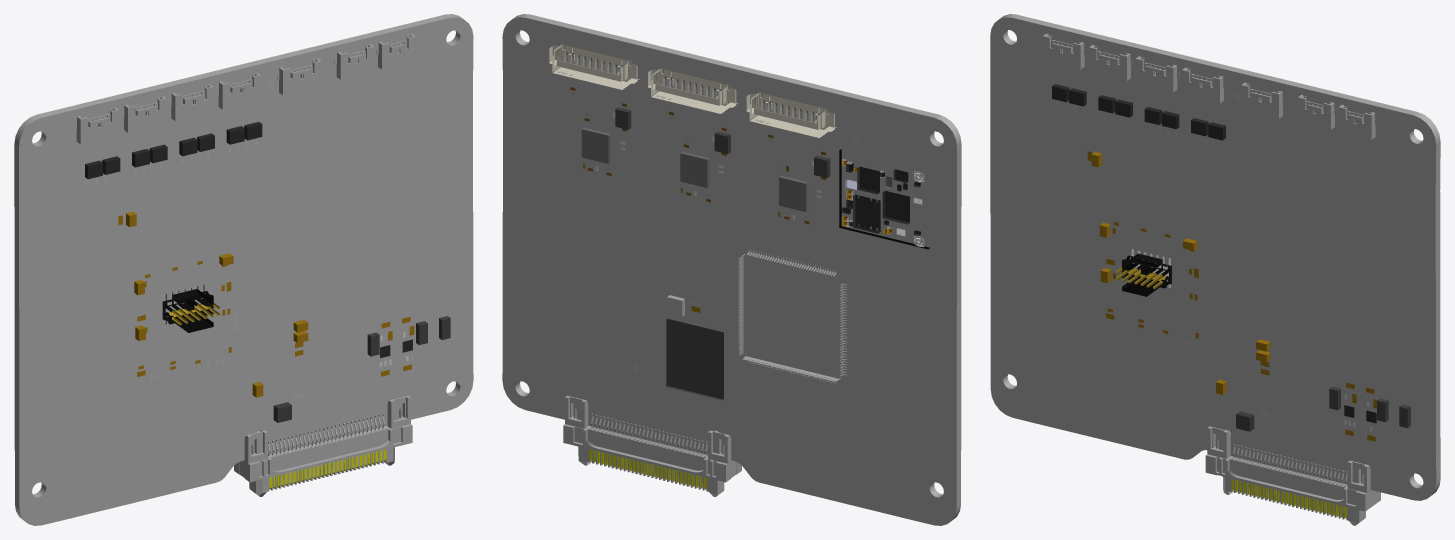
Rendered from piklas.glb.
The picture shows the model from 3 angles, left to right: view 1: azimuth 30°, elevation 25°; view 2: azimuth 150°, elevation 25°; view 3: azimuth 330°, elevation 25°; orthographic projection.
Visible parts, largest first — view 1: board, if_0, blocks, if_1, decals, if_7, if_9, if_6, if_8, if_5, if_10, if_11; view 2: board, parts, if_0, blocks, if_2, if_3, if_4, decals; view 3: board, if_0, blocks, if_1, decals, if_5, if_7, if_6, if_9, if_8, if_11, if_10.
Boxes of the visible parts, x1,y1,x2,y2 form: board: (14, 14, 473, 525); if_0: (234, 395, 412, 496); blocks: (85, 122, 450, 422); if_1: (162, 284, 219, 332); decals: (86, 66, 414, 399); if_7: (169, 84, 213, 121); if_9: (277, 58, 321, 95); if_6: (122, 96, 166, 132); if_8: (216, 72, 260, 109); if_5: (74, 107, 118, 144); if_10: (334, 44, 374, 79); if_11: (376, 34, 415, 69); board: (502, 14, 961, 525); parts: (666, 149, 929, 400); if_0: (563, 395, 741, 496); blocks: (581, 107, 830, 316); if_2: (648, 68, 739, 113); if_3: (746, 92, 837, 137); if_4: (549, 44, 639, 89); decals: (569, 81, 858, 372); board: (990, 14, 1440, 500); if_0: (1205, 426, 1380, 525); blocks: (1052, 84, 1410, 431); if_1: (1116, 249, 1171, 296); decals: (1056, 77, 1377, 441); if_5: (1042, 33, 1086, 69); if_7: (1135, 56, 1179, 92); if_6: (1089, 45, 1132, 80); if_9: (1241, 82, 1284, 118); if_8: (1182, 67, 1225, 103); if_11: (1338, 104, 1377, 139); if_10: (1298, 95, 1336, 129).
Size of the model in its own units: 92.18 by 83.88 by 11.36.
